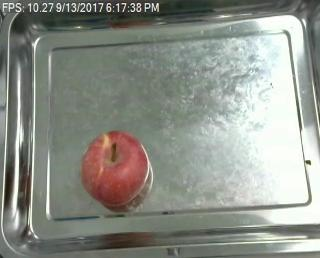apple: (79, 131, 150, 209)
